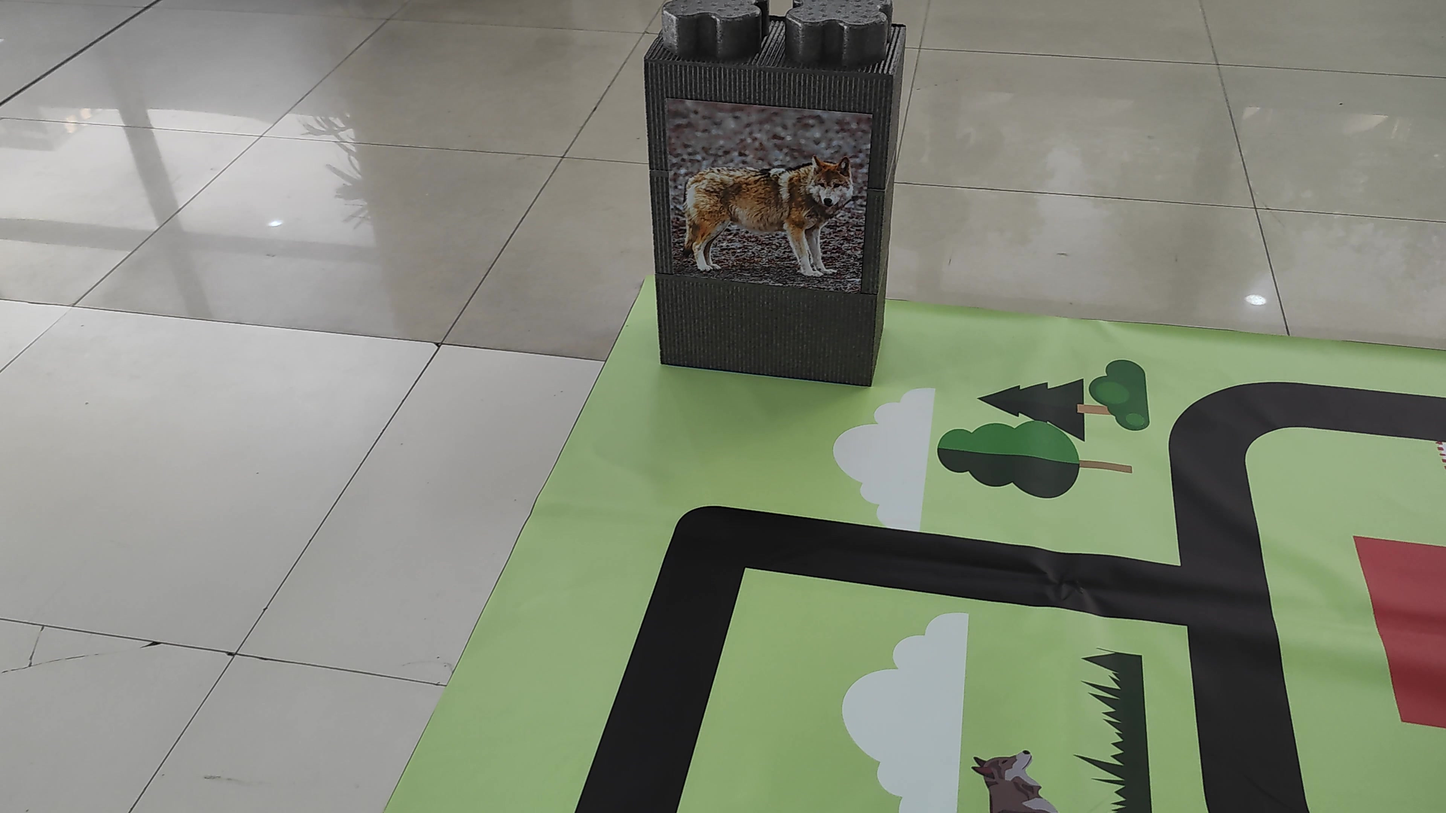wolf: (664, 104, 863, 288)
